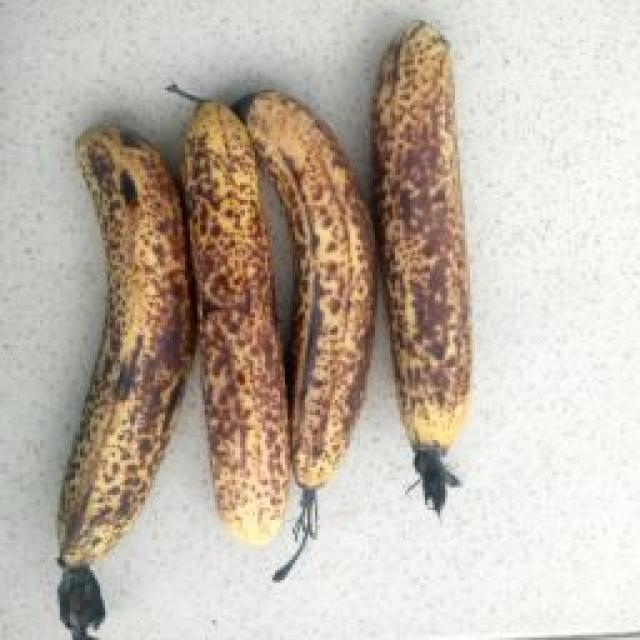banana: (0, 39, 573, 509)
